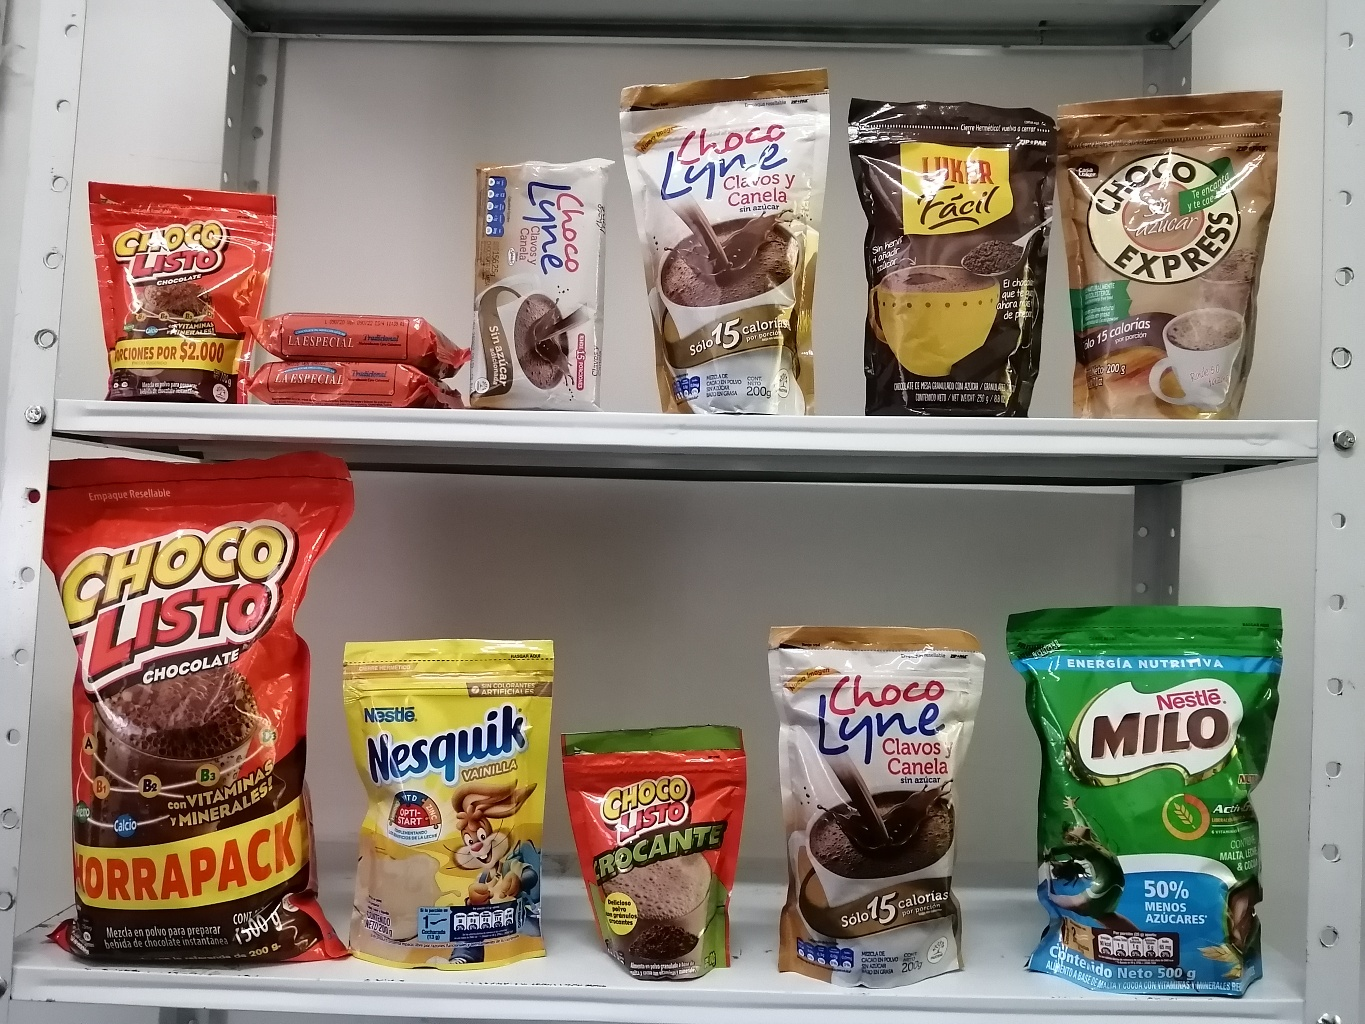COL0170102DYP10000: (546, 720, 778, 987)
COL0170103DYP1,500: (39, 441, 376, 992)
COL0170205DYP50000: (1006, 597, 1286, 1002)
COL0170306DYP20000: (338, 627, 555, 973)
